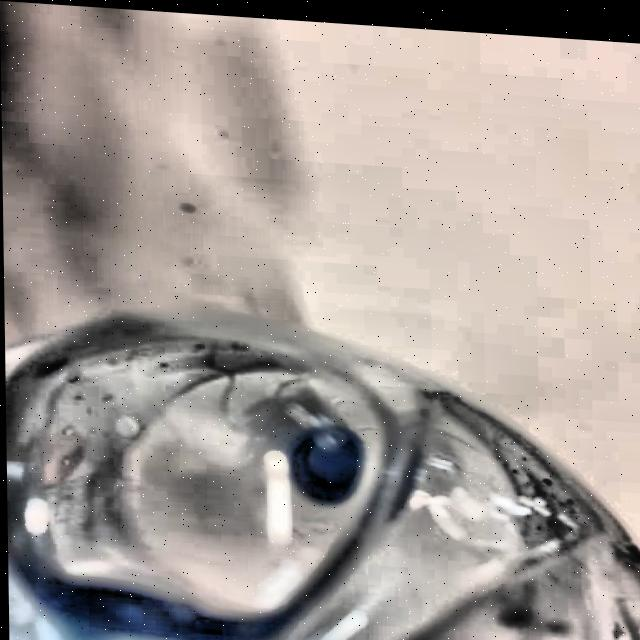plastic: (4, 294, 640, 640)
